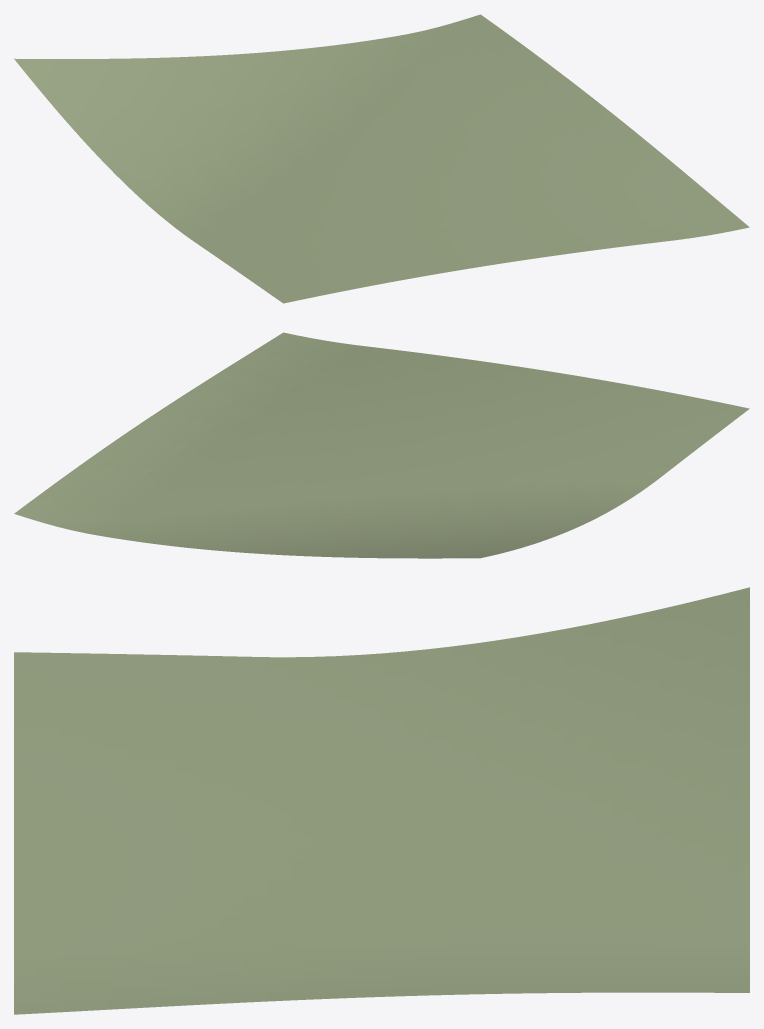
Rendered from expanse-23-9.glb.
3 views of the same model, one above another, from view 1: azimuth 30°, elevation 25°; view 2: azimuth 150°, elevation 25°; view 3: azimuth 270°, elevation 25° (orthographic). The views are drawn at different scales.
Parts seen in each view (by area): view 1: expanse-23-9; view 2: expanse-23-9; view 3: expanse-23-9.
Part boxes in pixels (<box>): expanse-23-9: <box>14,14,749,303</box>; expanse-23-9: <box>14,332,749,558</box>; expanse-23-9: <box>14,587,749,1014</box>.
Size of the model in its own units: 256 by 44.71 by 256.
